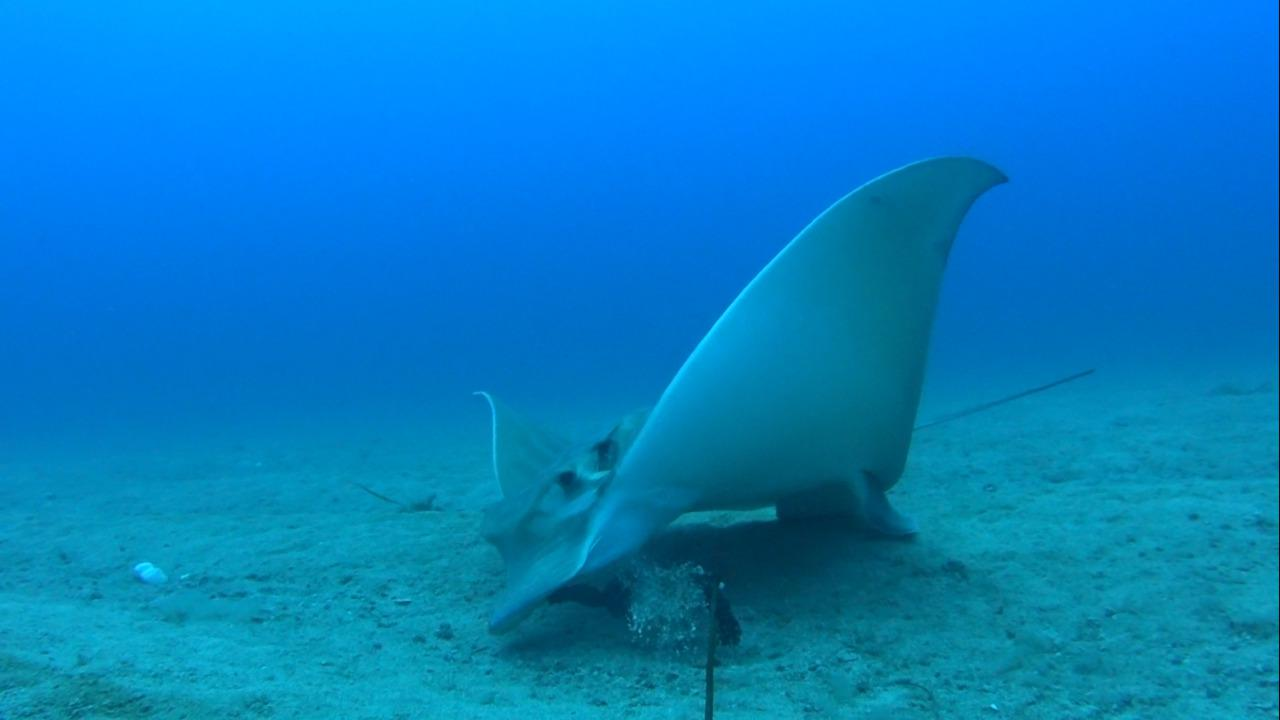myliobatis: (474, 148, 1101, 645)
